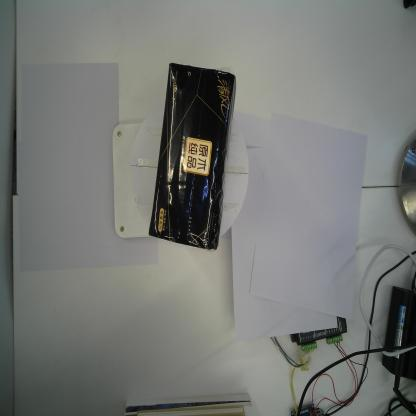Tissue: (148, 62, 236, 252)
